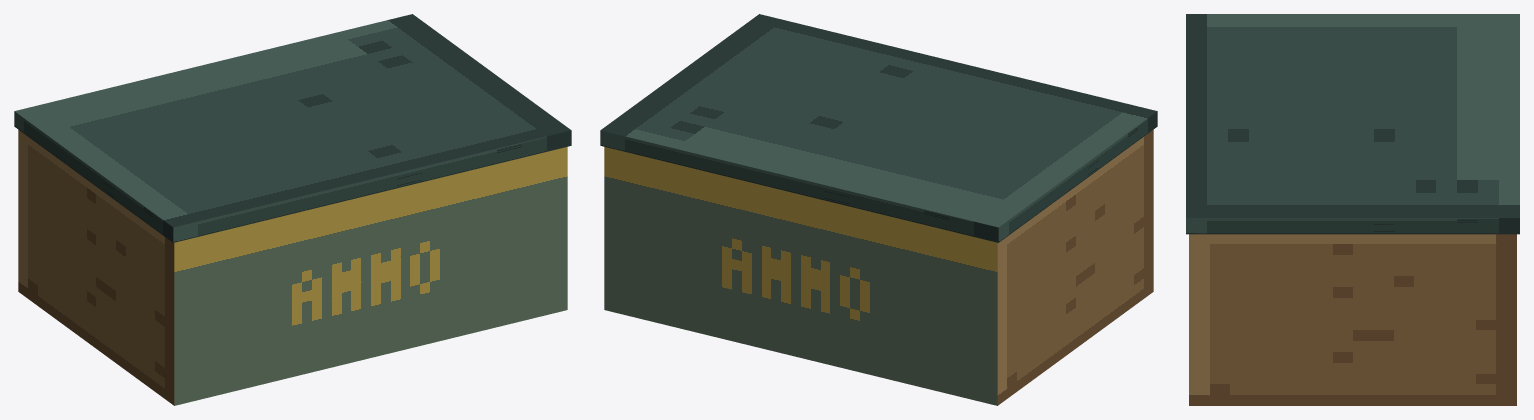
File: INV_AmmoBox.glb
3 views of the same model, side by side, from view 1: azimuth 30°, elevation 25°; view 2: azimuth 150°, elevation 25°; view 3: azimuth 270°, elevation 25° (orthographic). The views are drawn at different scales.
Visible parts, largest first — view 1: INV_AmmoBox_Mesh; view 2: INV_AmmoBox_Mesh; view 3: INV_AmmoBox_Mesh.
Boxes of the visible parts, x1,y1,x2,y2 form: INV_AmmoBox_Mesh: [14, 14, 571, 405]; INV_AmmoBox_Mesh: [600, 14, 1157, 405]; INV_AmmoBox_Mesh: [1186, 14, 1519, 405].
Size of what is drawn, in the model's own units: 0.081 by 0.035 by 0.056.
1 material, 1 textured.
